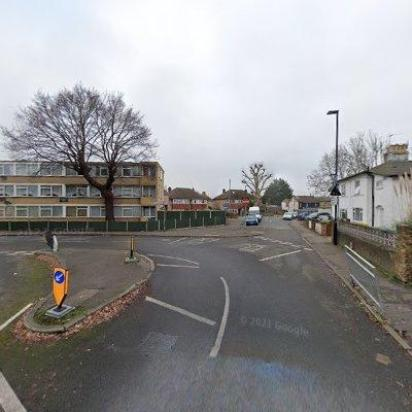stationary-car-onstreet: (249, 206, 261, 222), (246, 215, 258, 225)
